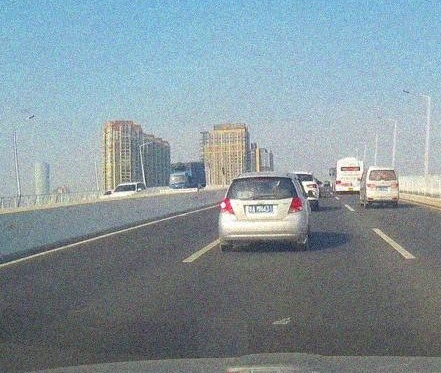L_light: (219, 197, 235, 215), (367, 183, 375, 188)
R_light: (287, 197, 303, 214), (391, 183, 398, 187)
T_light: (256, 177, 269, 180), (380, 170, 385, 172)
day-left: (218, 171, 305, 251)
day-no: (366, 166, 399, 208)
